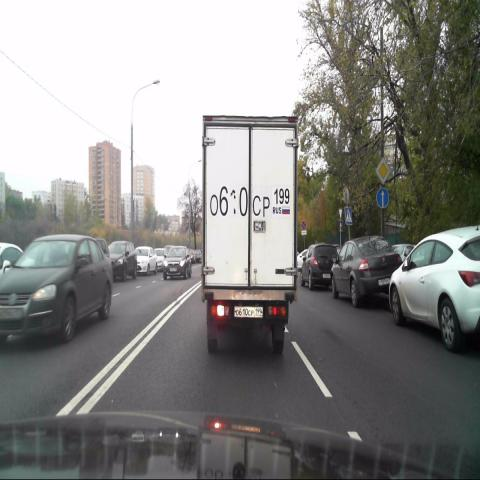4_1_1: (376, 187, 389, 209)
